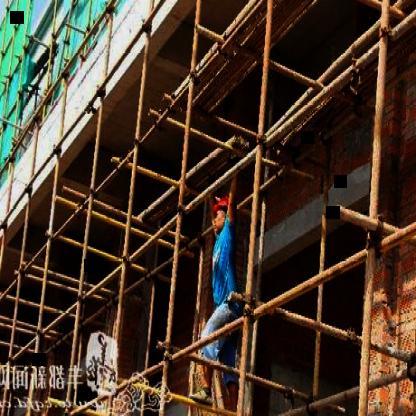helmet: (211, 193, 235, 238)
